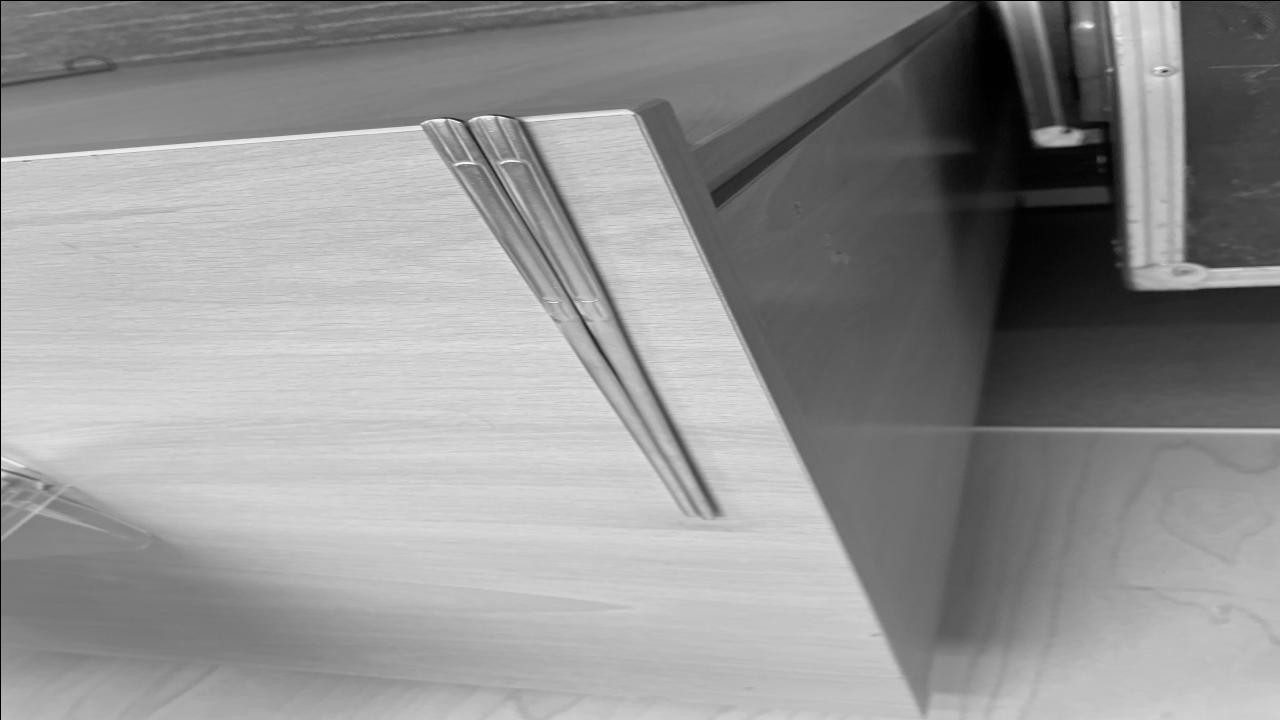chopstick: (416, 117, 722, 518)
